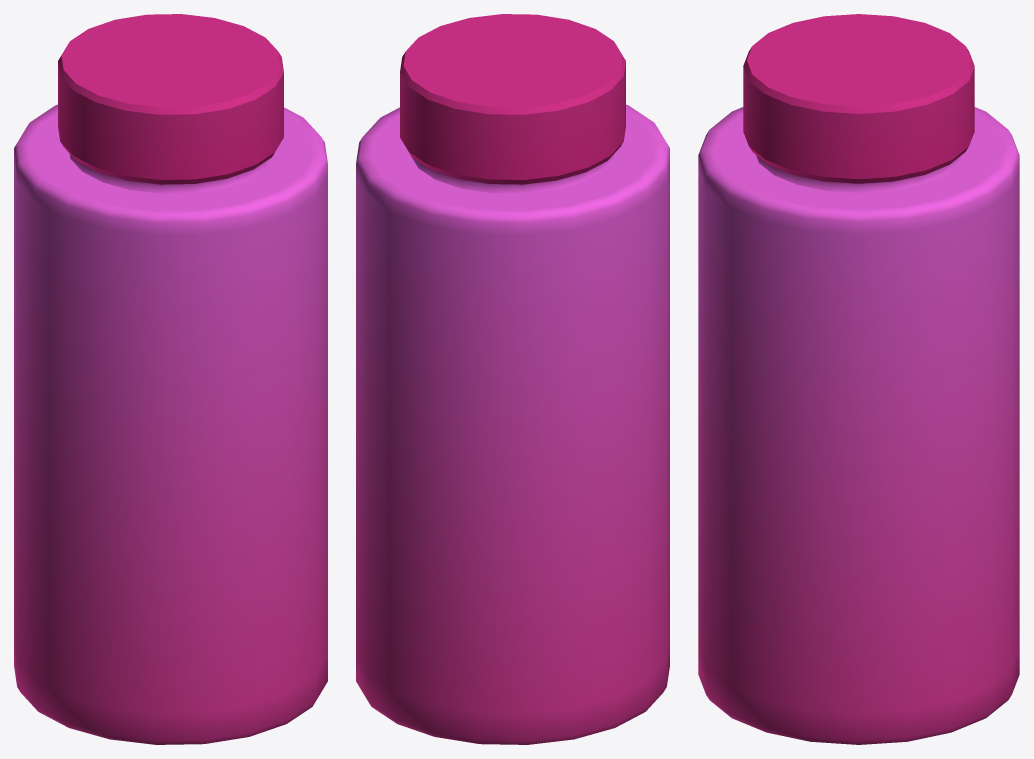
The model's file is bottle_flat_pink.fbx.
3 views of the same model, side by side, from view 1: azimuth 30°, elevation 25°; view 2: azimuth 150°, elevation 25°; view 3: azimuth 270°, elevation 25° (orthographic).
Parts seen in each view (by area): view 1: bottle_flat_pink; view 2: bottle_flat_pink; view 3: bottle_flat_pink.
Part boxes in pixels (x1=…): bottle_flat_pink: x1=14, y1=14, x2=327, y2=744; bottle_flat_pink: x1=356, y1=14, x2=669, y2=744; bottle_flat_pink: x1=698, y1=14, x2=1019, y2=744.
Bounding box in the file's own units: 107 × 234 × 110.
